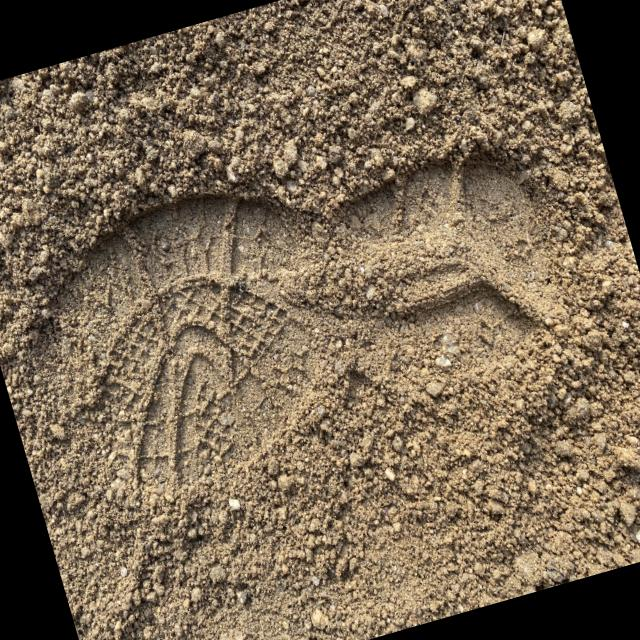human_foot_print: (6, 123, 630, 487)
